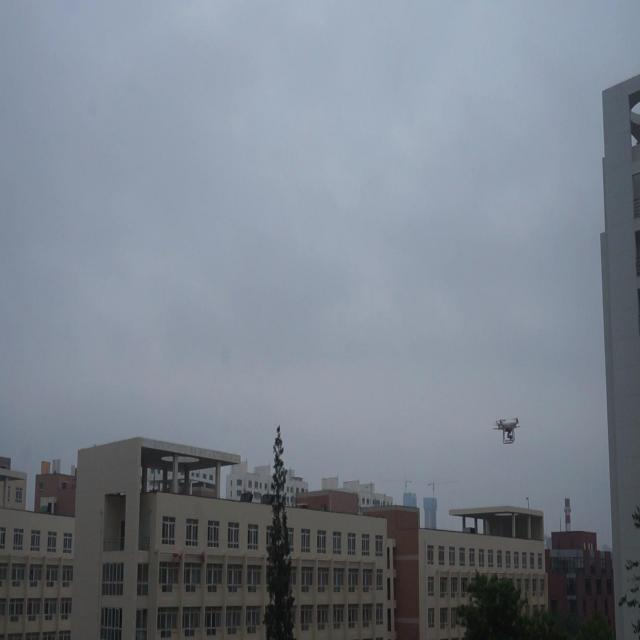UAV: (493, 417, 520, 444)
